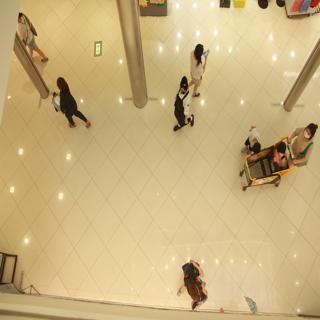person: (46, 69, 102, 147), (272, 109, 319, 183), (165, 73, 209, 141), (177, 257, 212, 311), (186, 36, 210, 101)
